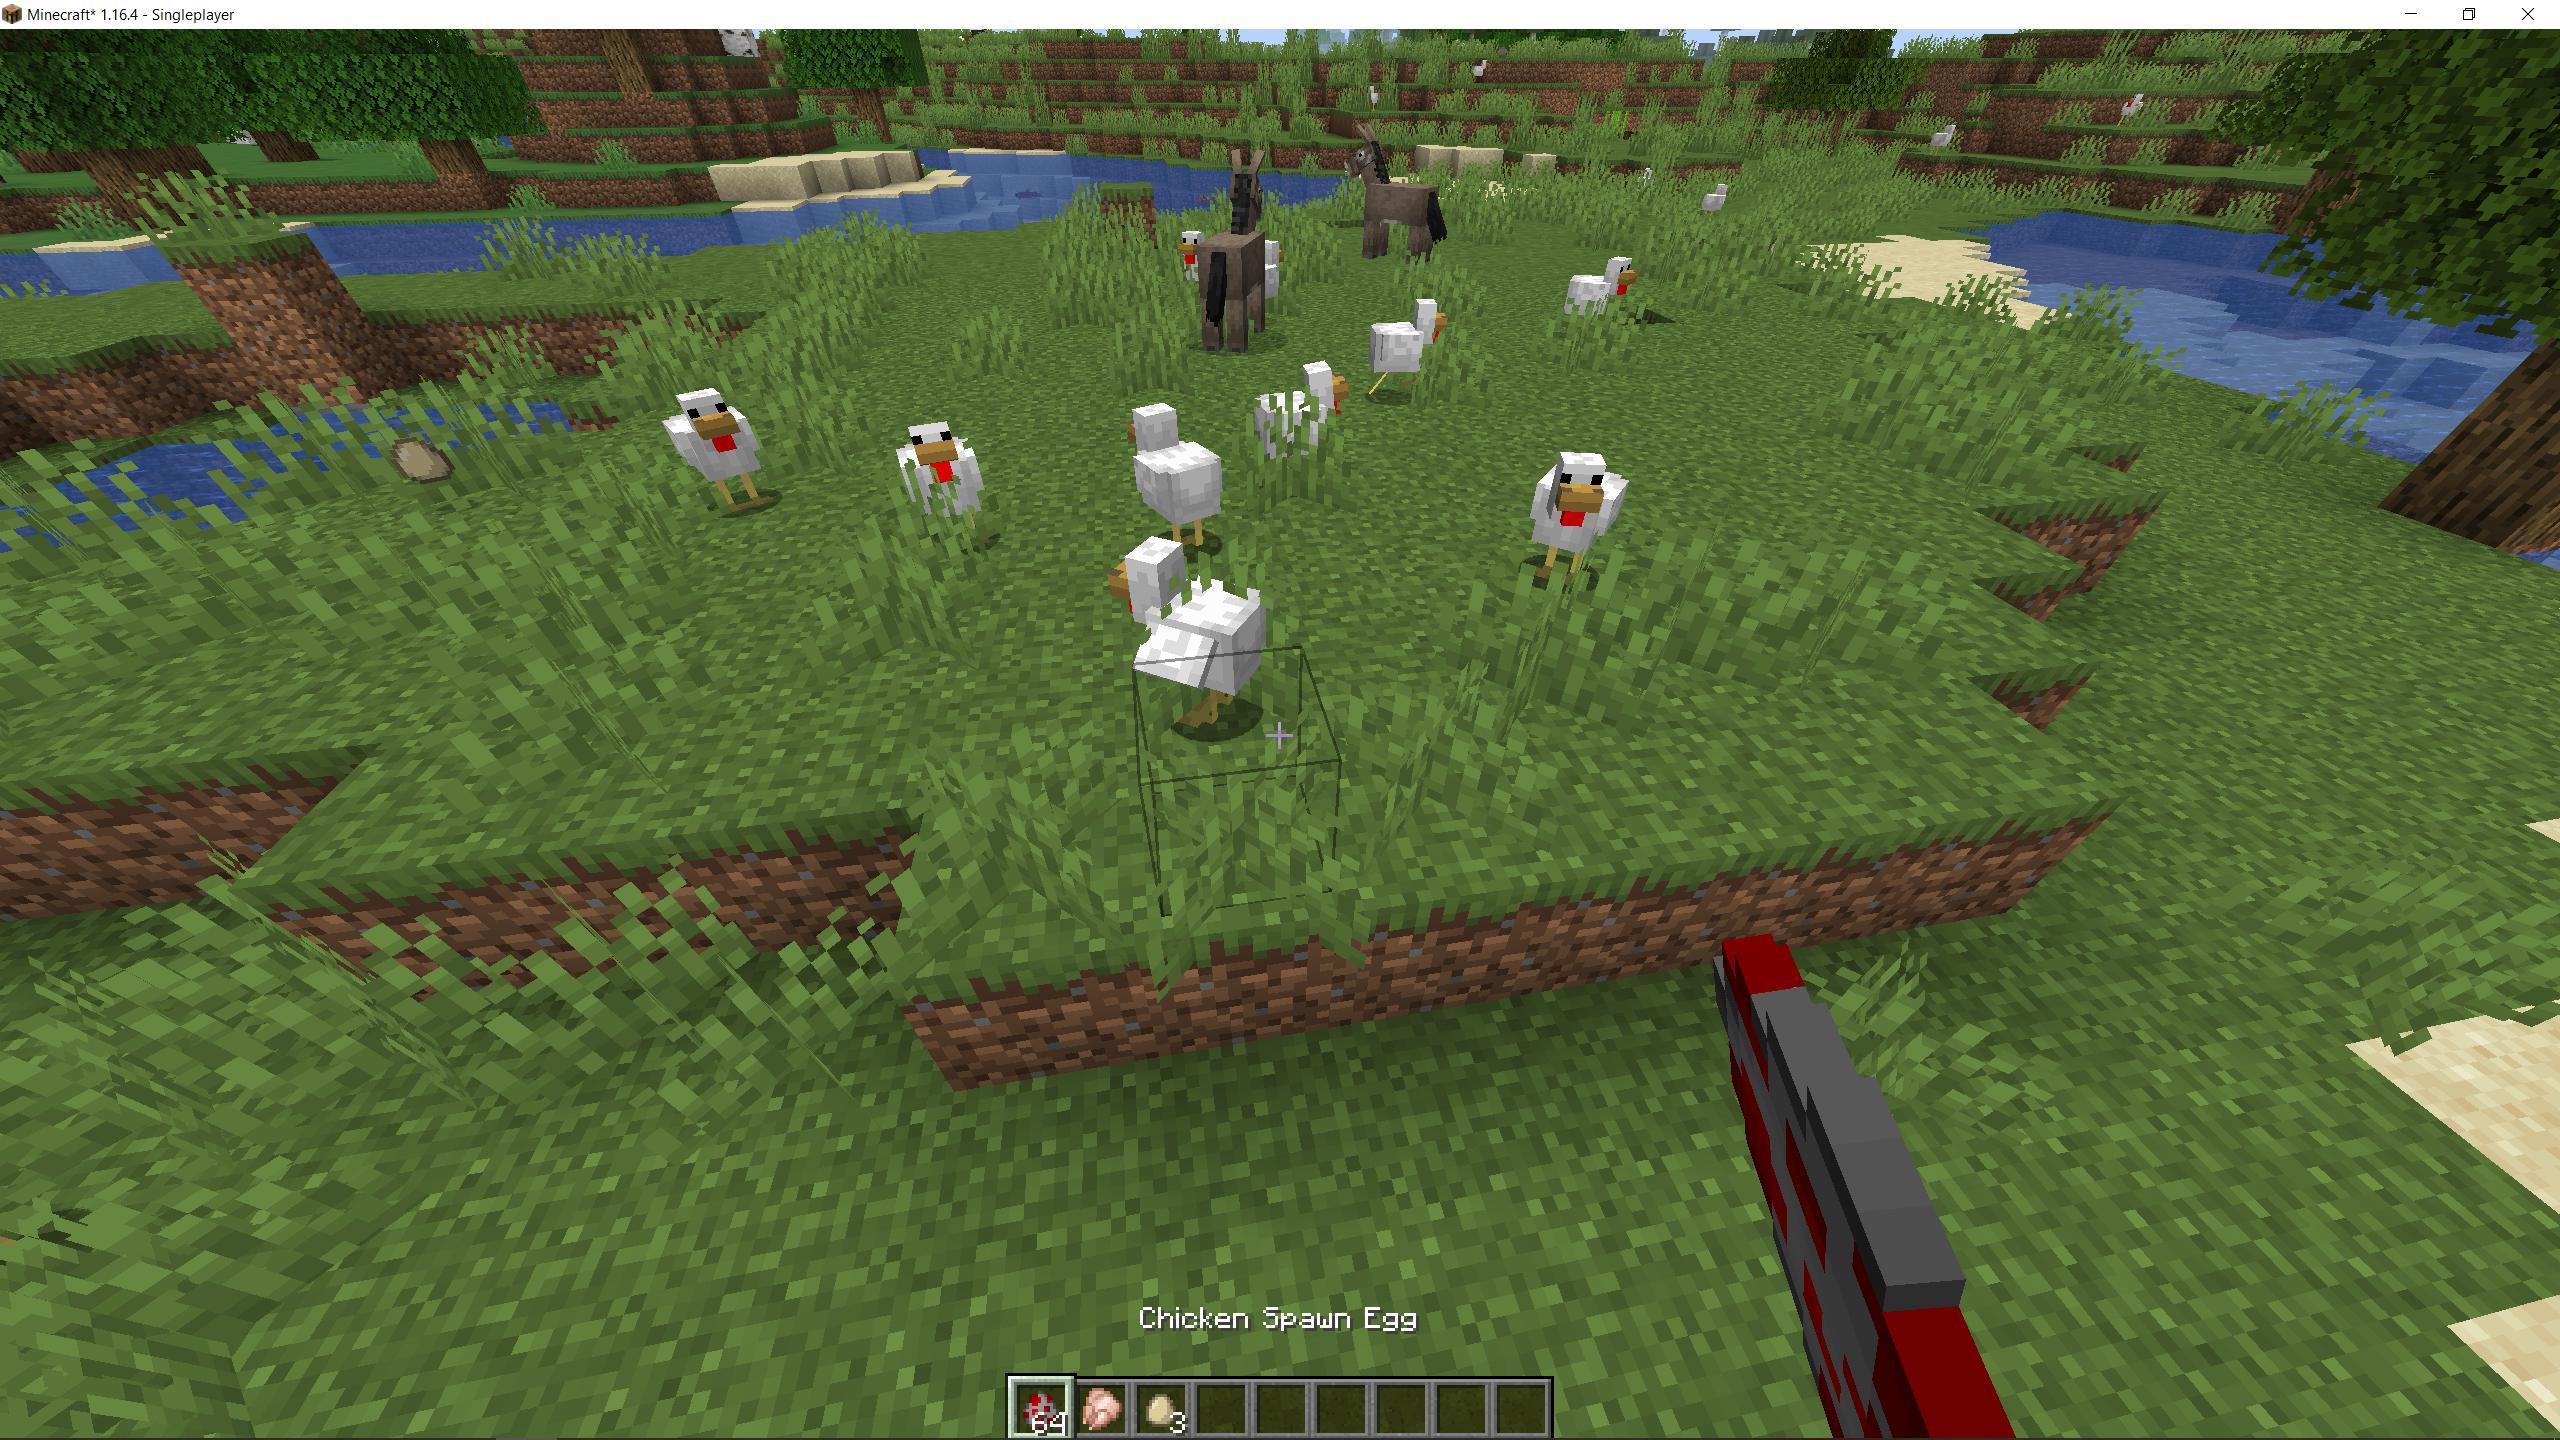chicken: (1101, 529, 1276, 737), (651, 369, 779, 535), (1122, 392, 1231, 556), (1524, 440, 1633, 582), (895, 406, 986, 550)
